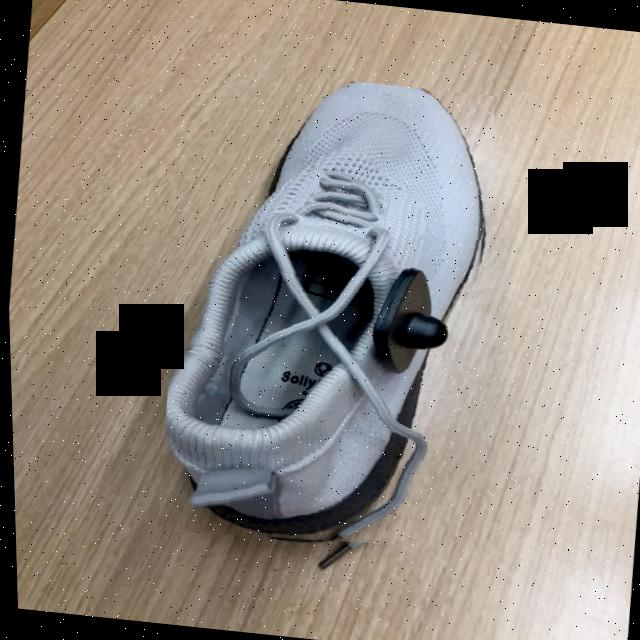shoe: (162, 81, 483, 542)
